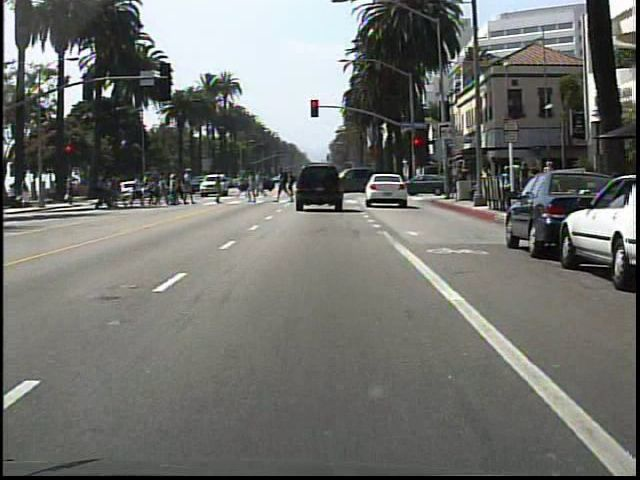person: (496, 162, 515, 212)
